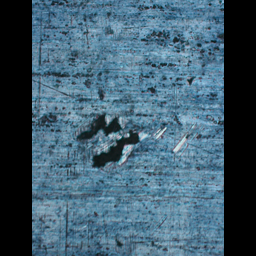d: (77, 107, 174, 172)
